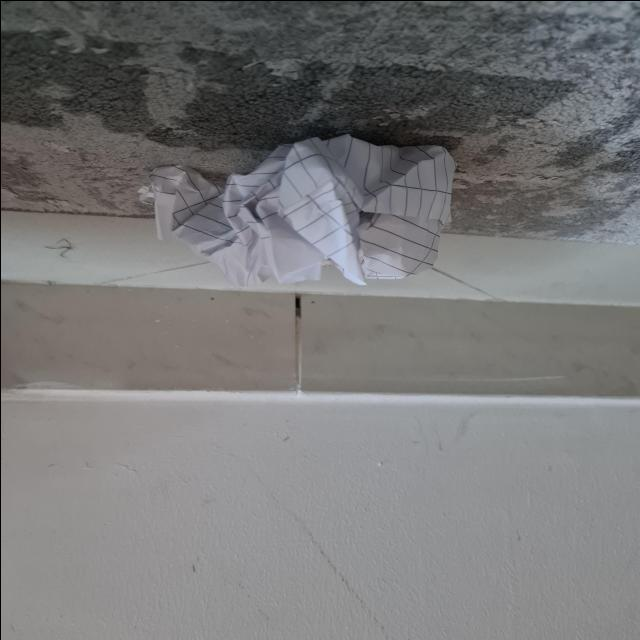kertas: (130, 138, 457, 286)
